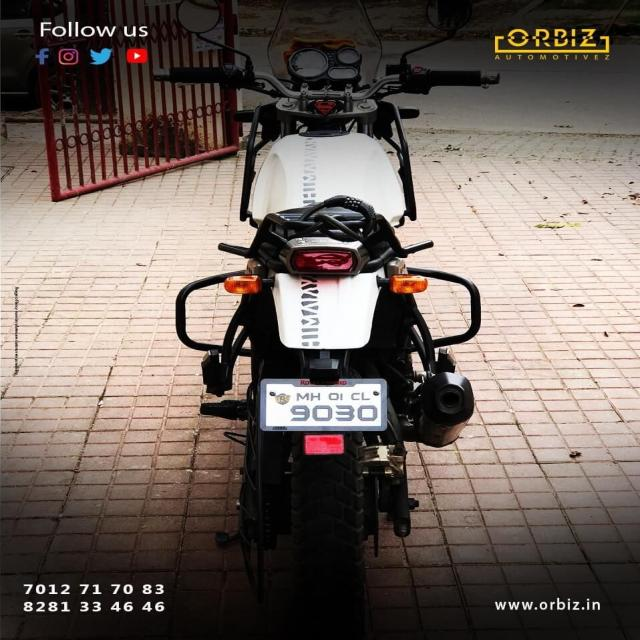number plate: (258, 377, 388, 432)
